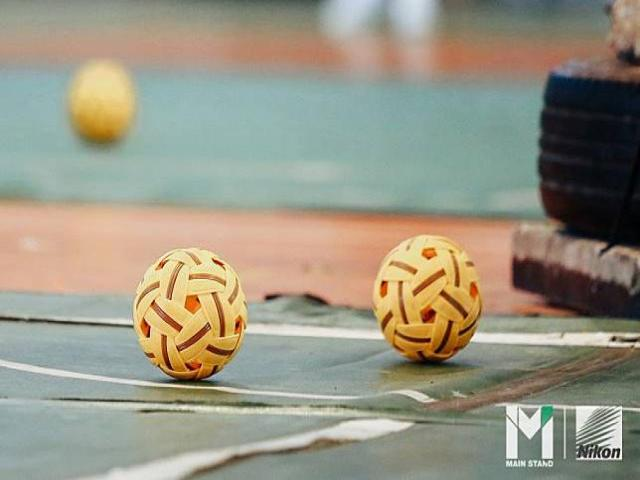round ball: (132, 248, 248, 380), (372, 234, 482, 361)
